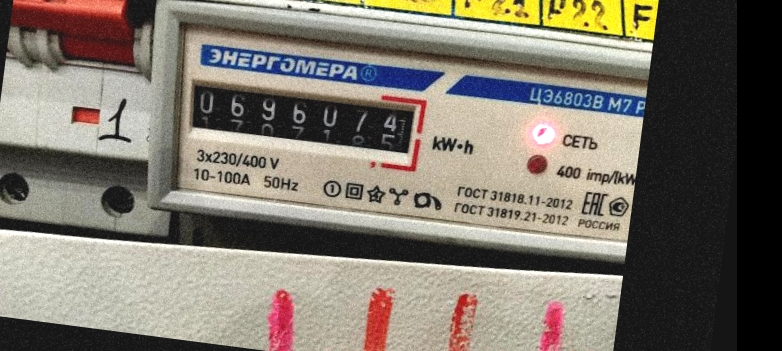0: (193, 87, 215, 114), (319, 100, 339, 128)
4: (380, 107, 399, 133)
5: (378, 131, 395, 151)
6: (226, 89, 248, 119), (288, 98, 308, 124)
7: (348, 105, 369, 133)
9: (256, 94, 278, 121)
screen: (171, 63, 431, 176)
